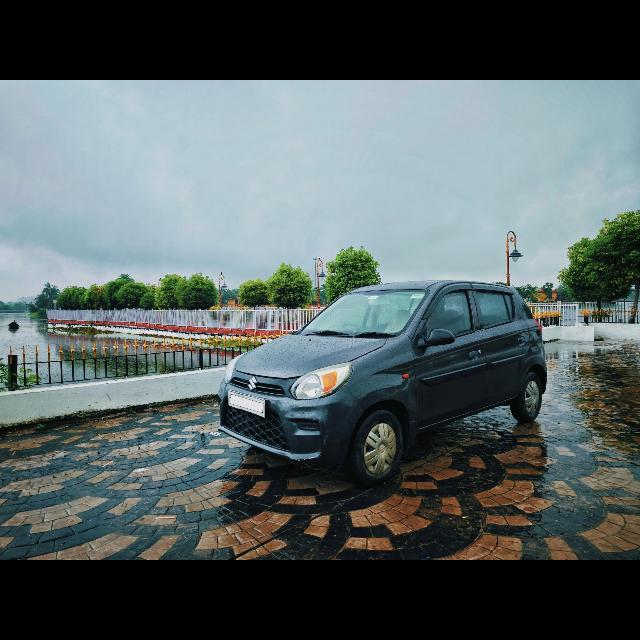number-plate: (227, 390, 264, 416)
vehicles: (216, 276, 550, 484)
